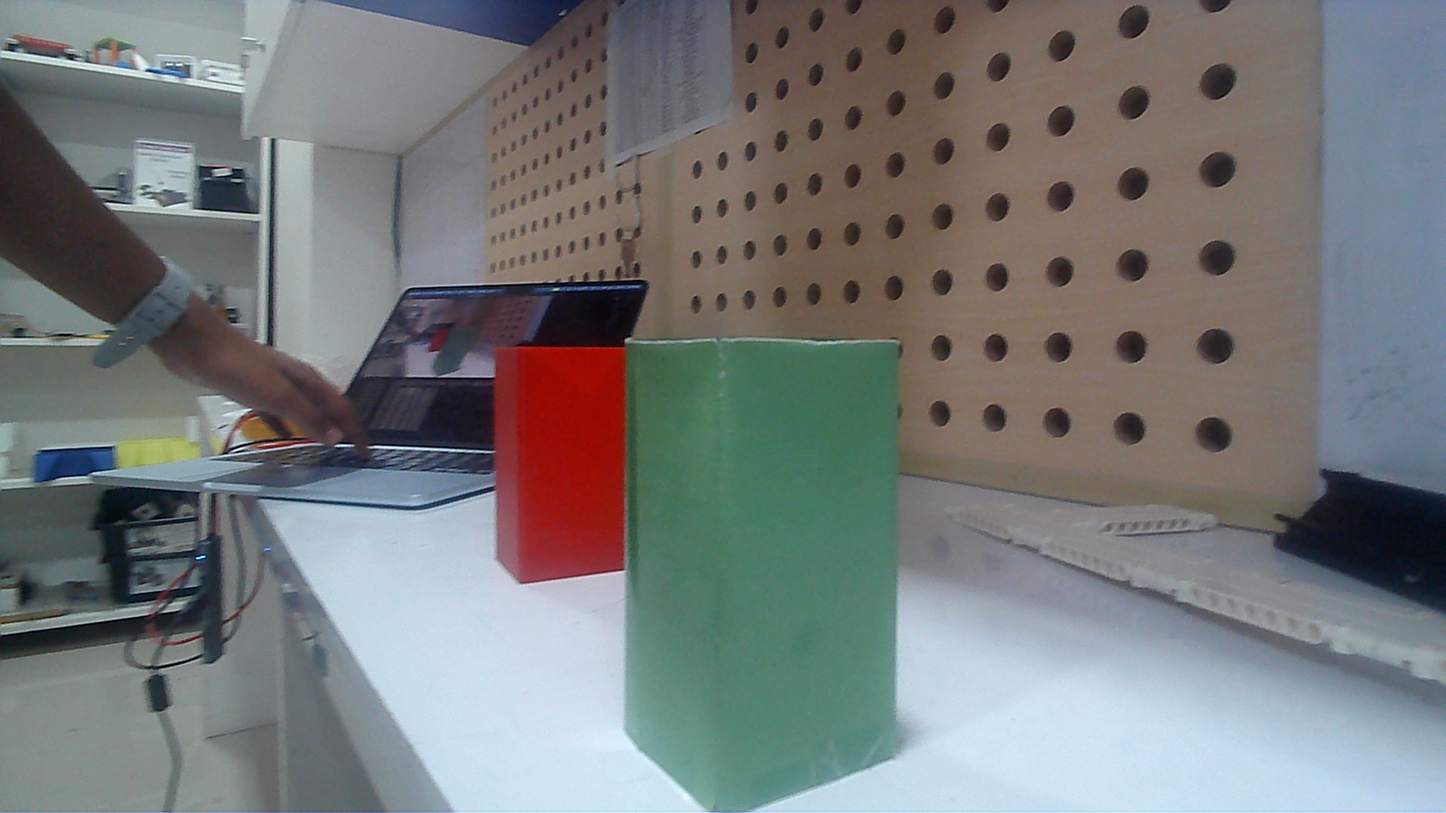green: (624, 334, 896, 805)
